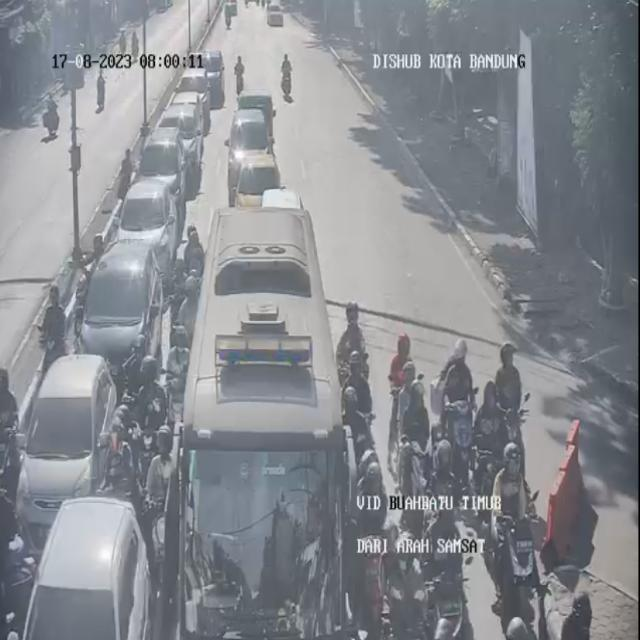cars: (18, 495, 153, 638), (18, 352, 116, 540), (75, 242, 162, 383), (116, 176, 178, 271), (142, 125, 188, 203), (232, 103, 274, 188), (158, 102, 204, 174), (232, 148, 279, 203), (169, 90, 207, 130), (198, 49, 222, 105), (182, 68, 214, 110), (265, 0, 285, 29)
motorcycle: (493, 344, 532, 495), (546, 408, 590, 540), (472, 367, 514, 498), (390, 359, 430, 482), (438, 340, 476, 468), (166, 233, 195, 346), (338, 306, 372, 401), (356, 445, 389, 534), (165, 326, 190, 434), (143, 449, 170, 548), (553, 581, 598, 640), (0, 363, 19, 482), (177, 220, 204, 292), (278, 48, 293, 106), (237, 53, 247, 94), (223, 0, 236, 31), (244, 0, 253, 10)
truck: (185, 376, 333, 636), (204, 187, 326, 429)
